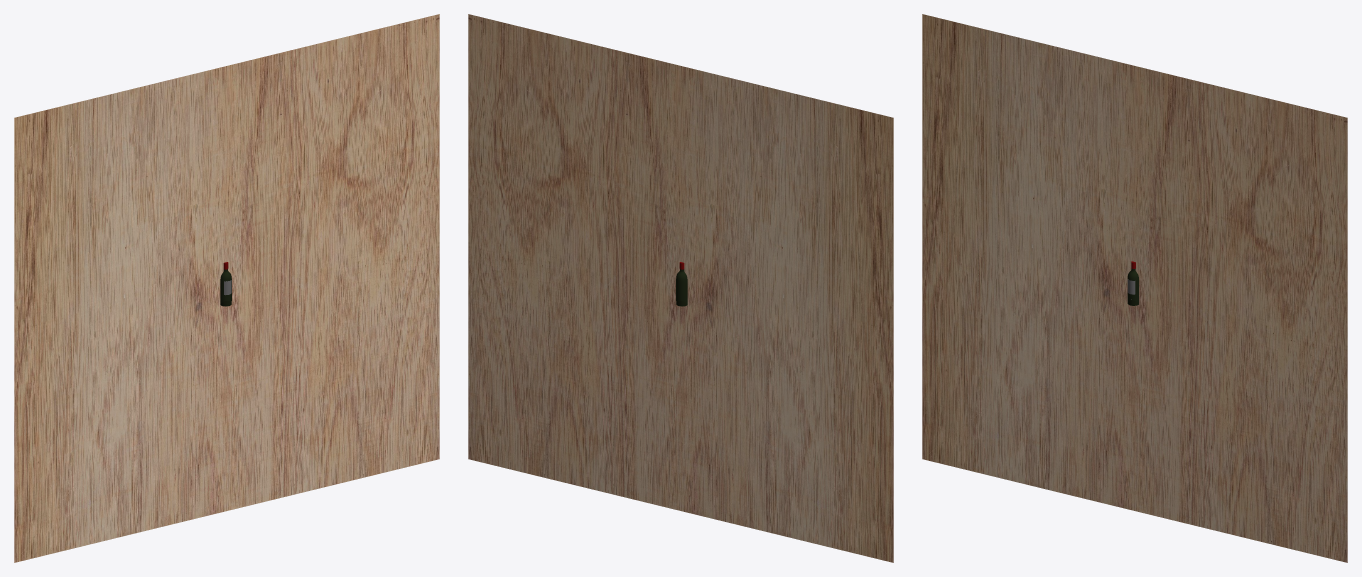
The model's file is bottle4.glb.
The picture shows the model from 3 angles, left to right: view 1: azimuth 30°, elevation 25°; view 2: azimuth 150°, elevation 25°; view 3: azimuth 330°, elevation 25°; orthographic projection.
Visible parts, largest first — view 1: Plane; view 2: Plane; view 3: Plane.
Boxes of the visible parts, bbox=[...] form: Plane: bbox=[14, 14, 439, 562]; Plane: bbox=[468, 14, 893, 562]; Plane: bbox=[922, 14, 1347, 562].
Size of the model in its own units: 20000 by 20000 by 503.
Materials: 8 (2 with a texture image).
